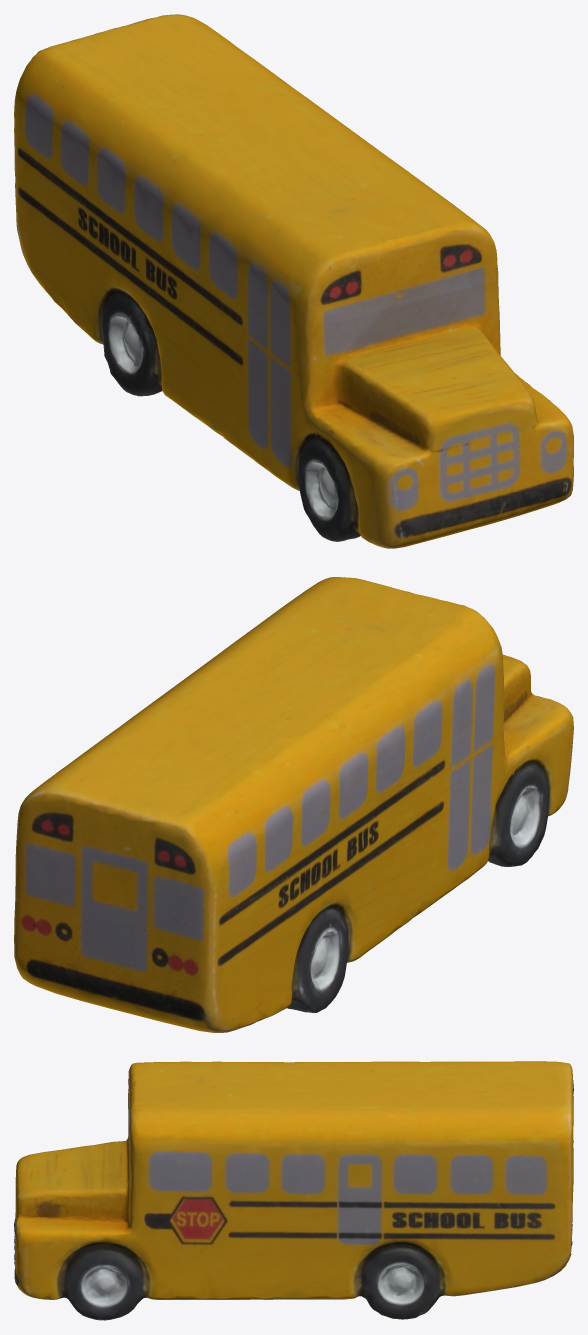
The model's file is SCHOOL_BUS.glb.
The picture shows the model from 3 angles, top to bottom: view 1: azimuth 30°, elevation 25°; view 2: azimuth 150°, elevation 25°; view 3: azimuth 270°, elevation 25°; orthographic projection. The views are drawn at different scales.
Visible parts, largest first — view 1: SCHOOL_BUS; view 2: SCHOOL_BUS; view 3: SCHOOL_BUS.
Boxes of the visible parts, x1,y1,x2,y2 form: SCHOOL_BUS: [14, 14, 573, 548]; SCHOOL_BUS: [14, 577, 573, 1032]; SCHOOL_BUS: [14, 1061, 573, 1320].
Bounding box in the file's own units: 0.0318 × 0.0383 × 0.0978.
1 material, 1 textured.
